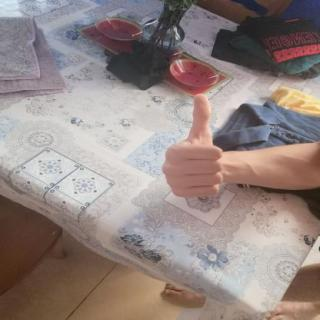ALIF: (146, 87, 244, 208)
